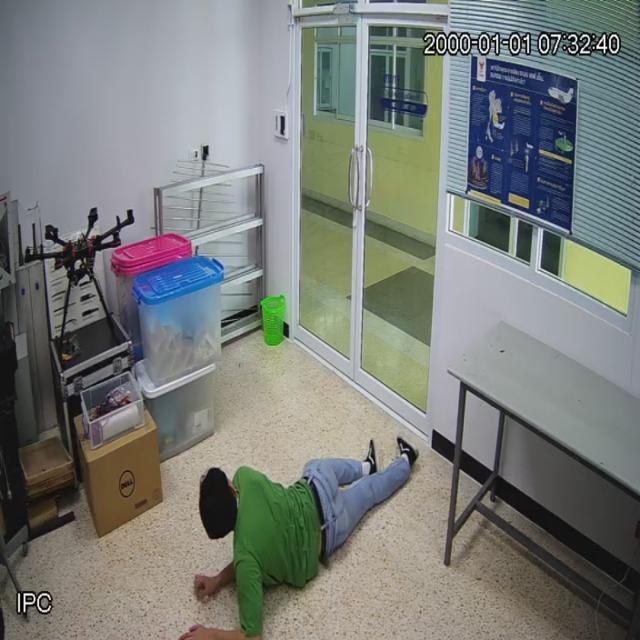fall: (196, 450, 410, 640)
